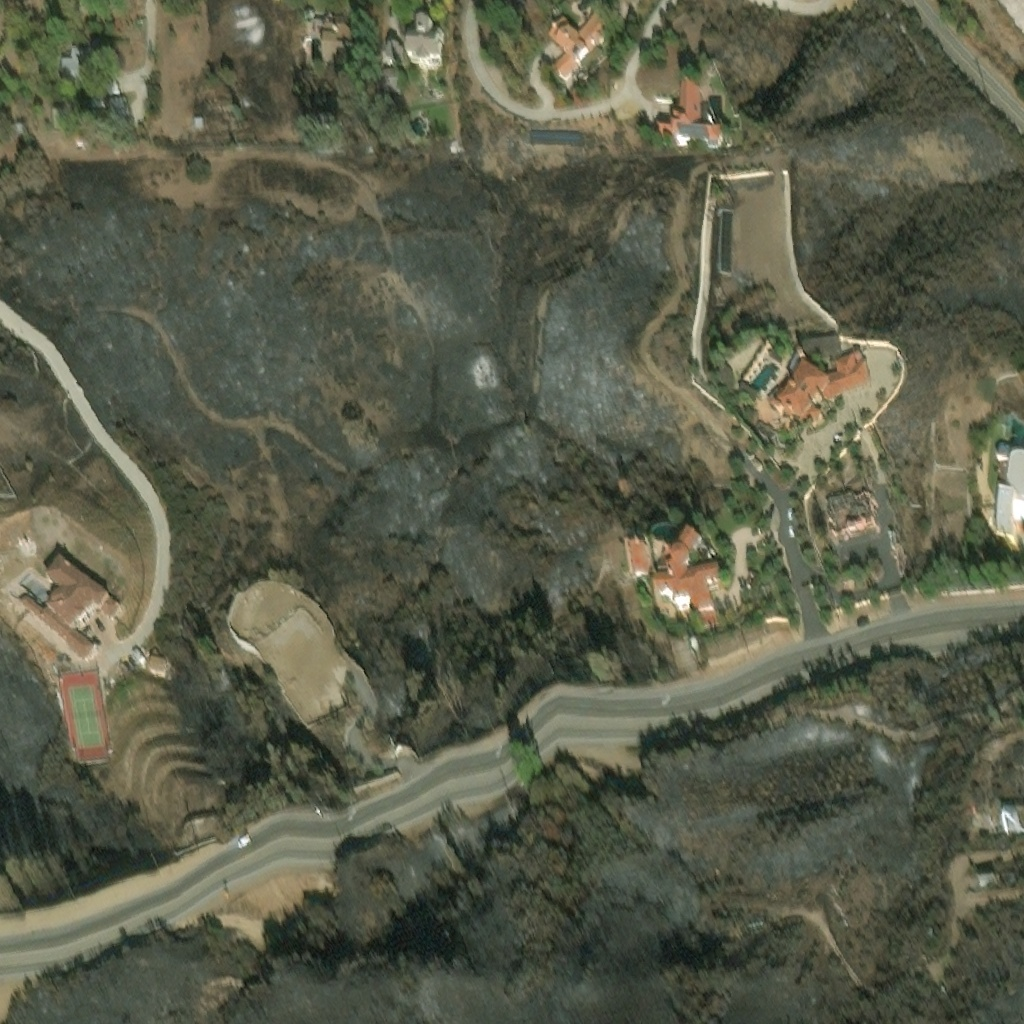0 no-damage: (16, 553, 124, 659), (776, 355, 872, 428), (656, 527, 726, 625), (545, 0, 627, 76), (659, 85, 727, 144), (995, 443, 1023, 541), (405, 13, 443, 62), (59, 44, 97, 88), (321, 17, 359, 61), (50, 99, 97, 124), (801, 336, 843, 356), (528, 127, 583, 141), (1001, 798, 1023, 824), (107, 88, 124, 121), (631, 541, 649, 572), (377, 65, 397, 88), (307, 108, 332, 124), (384, 39, 401, 58), (191, 111, 204, 124)
2 major-damage: (828, 494, 878, 539)
